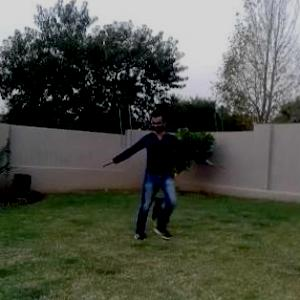land: (110, 120, 211, 237)
